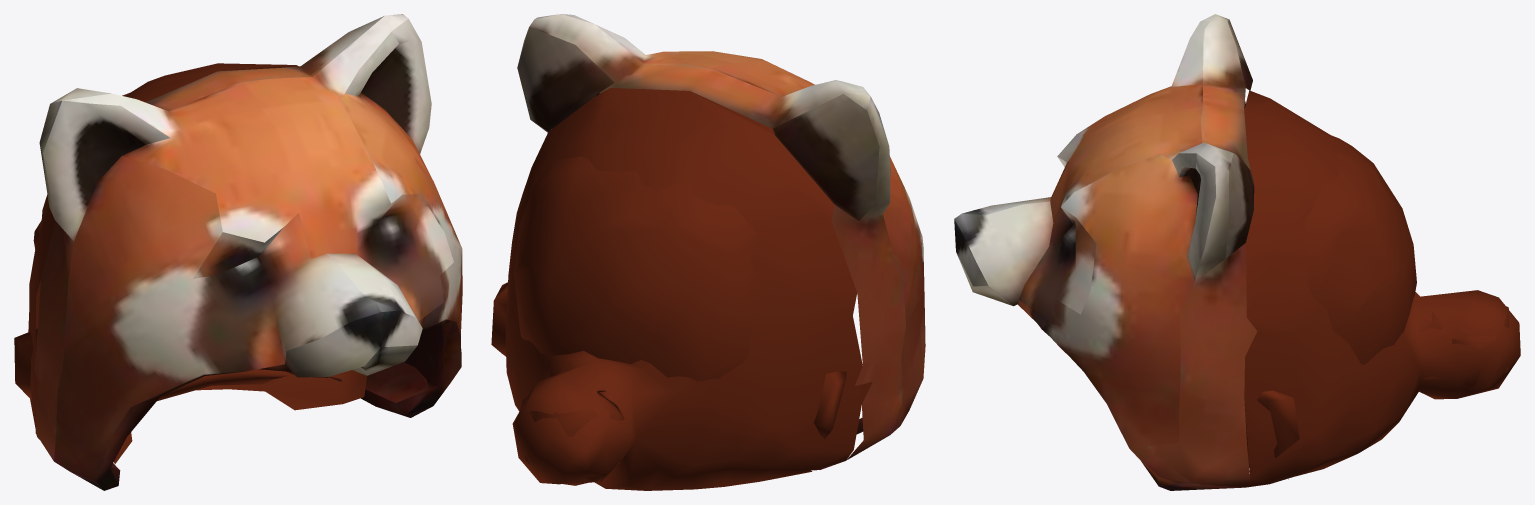
File: red-panda.glb
3 renders of one model, left to right at view 1: azimuth 30°, elevation 25°; view 2: azimuth 150°, elevation 25°; view 3: azimuth 270°, elevation 25°, orthographic. The views are drawn at different scales.
Parts seen in each view (by area): view 1: geometry_0, HoodAnatomicalLining; view 2: geometry_0, HoodAnatomicalLining; view 3: geometry_0, HoodAnatomicalLining.
Part boxes in pixels (x1,y1,x2,y2): geometry_0: (28,14,462,490); HoodAnatomicalLining: (14,93,366,463); geometry_0: (505,14,925,490); HoodAnatomicalLining: (491,92,846,439); geometry_0: (954,14,1520,490); HoodAnatomicalLining: (1244,134,1416,466).
Bounding box in the file's own units: 0.4954 × 0.482 × 0.7099.
Materials: 2 (1 with a texture image).
